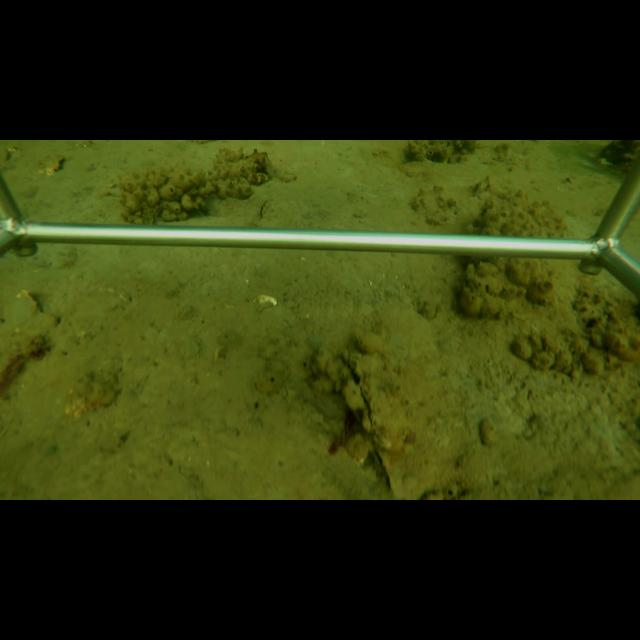Oyster-Closed: (340, 348, 418, 500)
